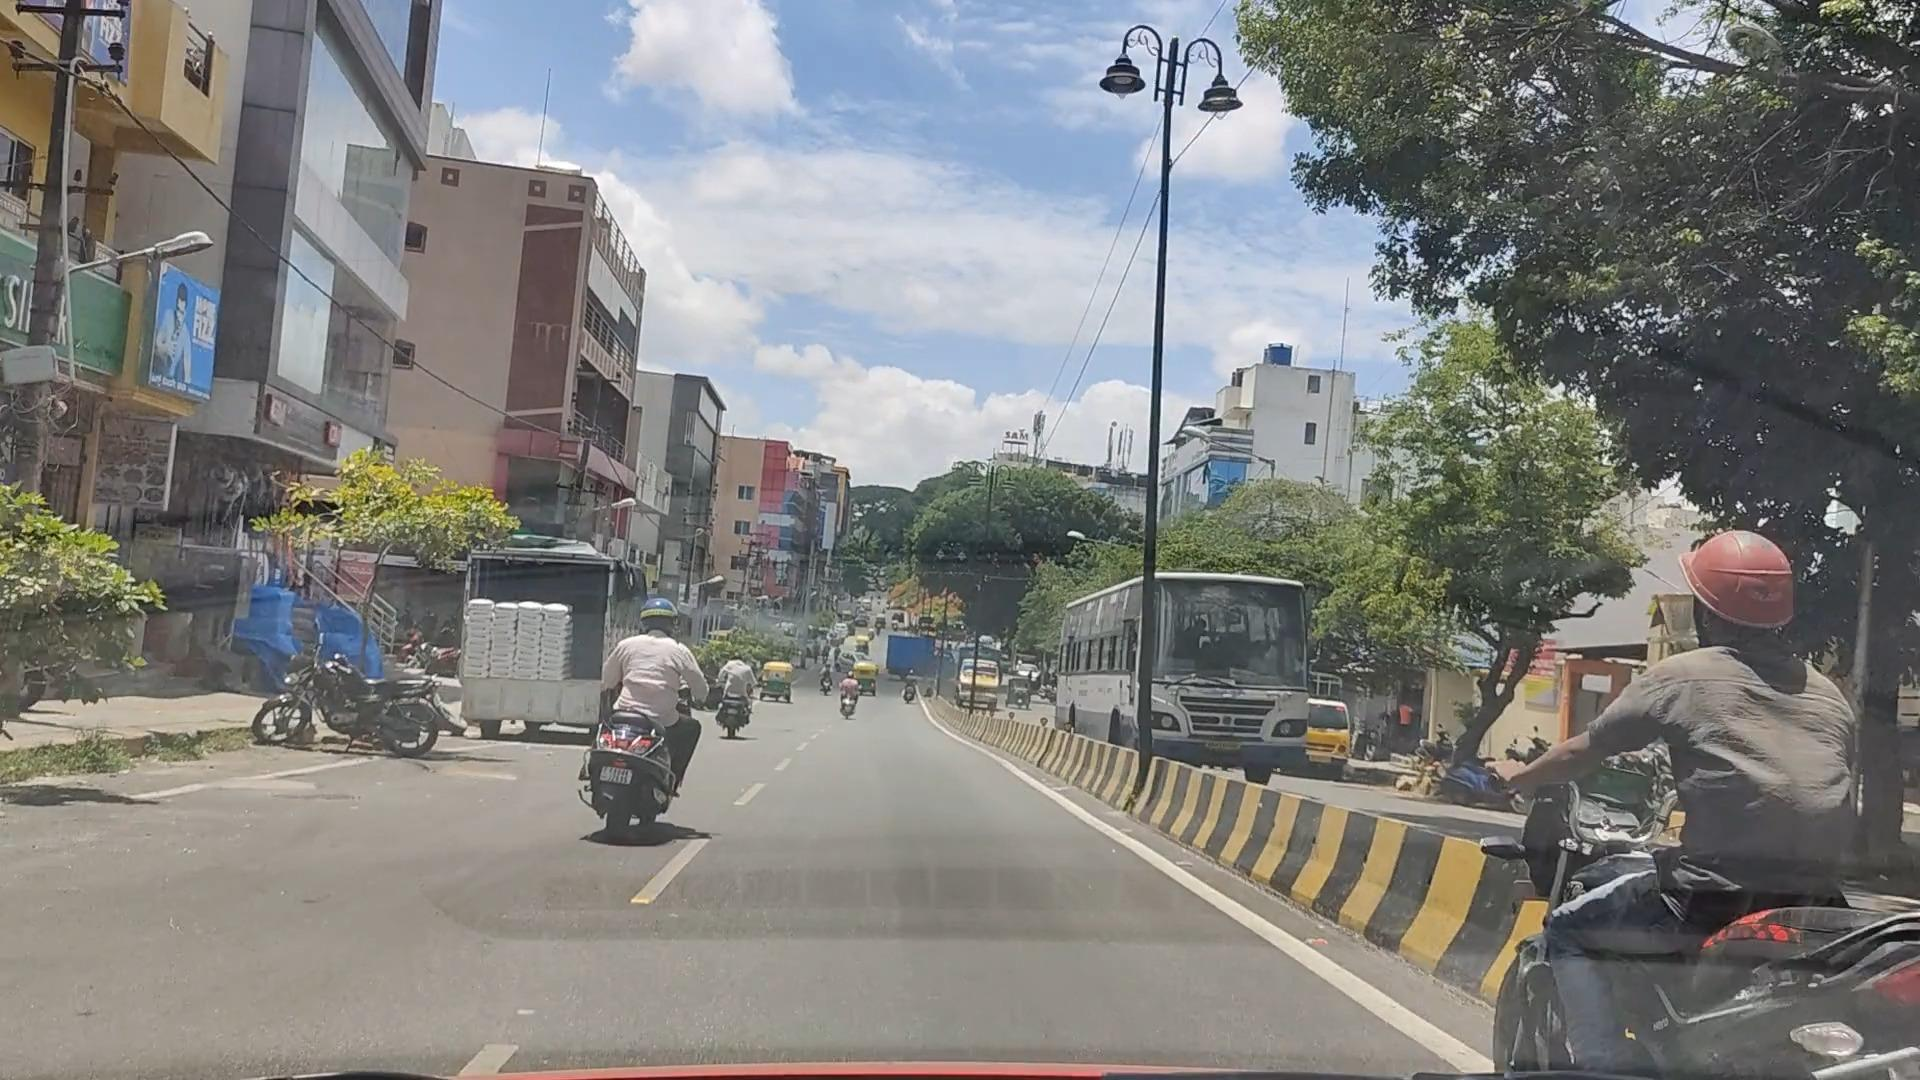LMV: (583, 596, 723, 843)
